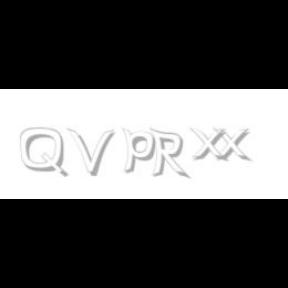Q: (20, 128, 66, 178)
R: (149, 128, 187, 180)
V: (67, 128, 115, 176)
p: (122, 128, 160, 174)
x: (189, 128, 231, 162), (213, 128, 255, 162)
